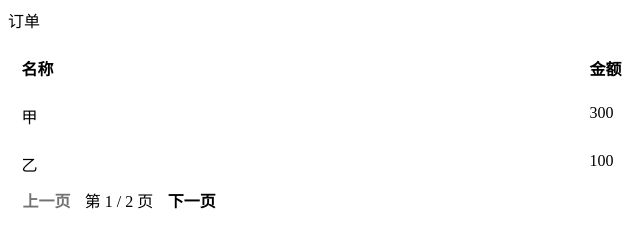
Test: Table › paginates with disabled boundaries
The image size is (639, 229).
Expected: the navigation bar named "分页" is shown, [8,188,230,212]
Expected: the button "上一页" is disabled, [8,188,85,212]
Click the button "下一页" at (192, 200), box [153,188,230,212]
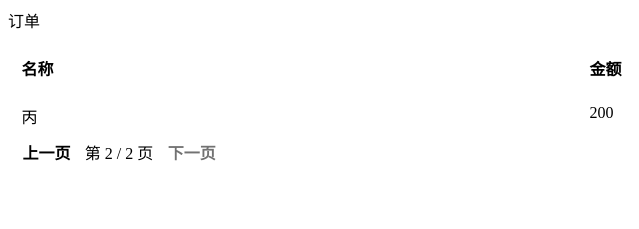
Now the text "第 2 / 2 页" is shown, box [85,140,153,164]
Now the button "下一页" is disabled, box [153,140,230,164]
